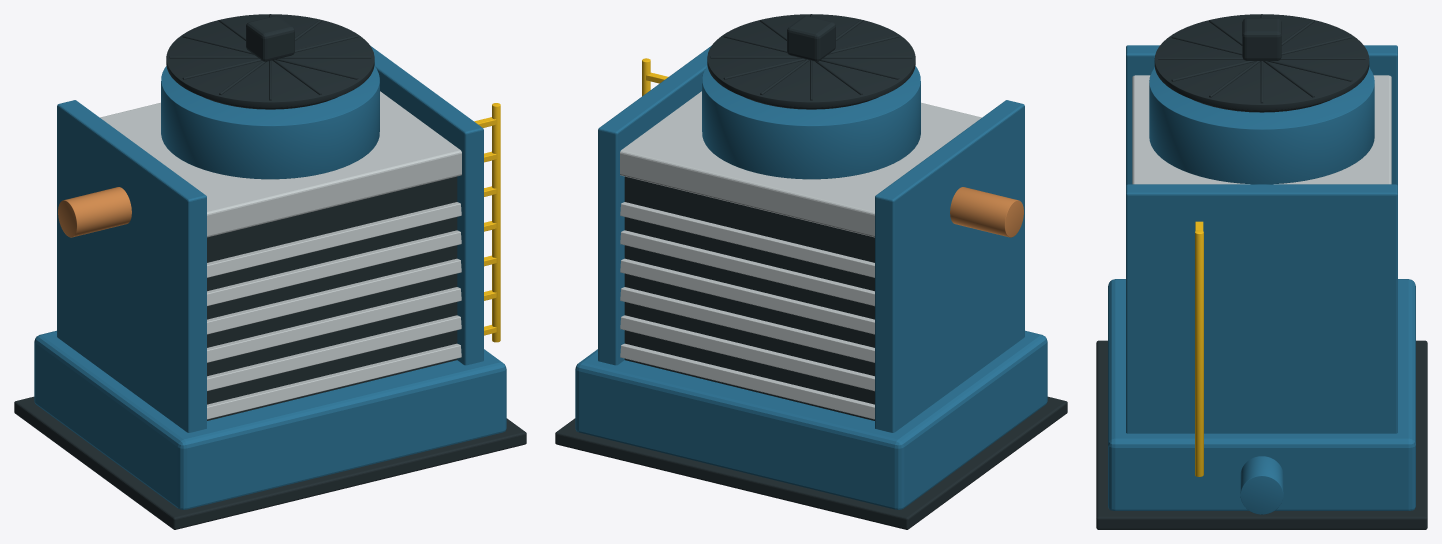
File: induced_draft_cooling_tower.glb
The picture shows the model from 3 angles, left to right: view 1: azimuth 30°, elevation 25°; view 2: azimuth 150°, elevation 25°; view 3: azimuth 270°, elevation 25°; orthographic projection. The views are drawn at different scales.
Parts seen in each view (by area): view 1: COLD_WATER_BASIN, CORNER_COLUMN_-0.92, FILL_MEDIA, DRIFT_ELIMINATOR, FAN_STACK, FAN_GUARD_OUTER, BASE, CORNER_COLUMN_0.92, AIR_INTAKE_LOUVER_-0.69_0.76, AIR_INTAKE_LOUVER_-0.69_1.3, AIR_INTAKE_LOUVER_-0.69_1.12, AIR_INTAKE_LOUVER_-0.69_0.58 (+5 smaller); view 2: COLD_WATER_BASIN, CORNER_COLUMN_-0.92, FILL_MEDIA, DRIFT_ELIMINATOR, FAN_STACK, FAN_GUARD_OUTER, BASE, CORNER_COLUMN_0.92, AIR_INTAKE_LOUVER_0.69_0.76, AIR_INTAKE_LOUVER_0.69_1.3, AIR_INTAKE_LOUVER_0.69_1.12, AIR_INTAKE_LOUVER_0.69_0.58 (+4 smaller); view 3: CORNER_COLUMN_0.92, COLD_WATER_BASIN, FAN_STACK, FAN_GUARD_OUTER, BASE, DRIFT_ELIMINATOR, CORNER_COLUMN_-0.92, ACCESS_LADDER_RIGHT, COLD_WATER_OUT, FAN_GEAR_MOTOR.
Boxes of the visible parts, left/top/right/bottom form: COLD_WATER_BASIN: left=34, top=330, right=506, bottom=509; CORNER_COLUMN_-0.92: left=57, top=100, right=206, bottom=432; FILL_MEDIA: left=207, top=176, right=457, bottom=420; DRIFT_ELIMINATOR: left=100, top=91, right=461, bottom=237; FAN_STACK: left=161, top=66, right=379, bottom=179; FAN_GUARD_OUTER: left=166, top=14, right=374, bottom=107; BASE: left=14, top=396, right=526, bottom=529; CORNER_COLUMN_0.92: left=370, top=45, right=483, bottom=365; AIR_INTAKE_LOUVER_-0.69_0.76: left=207, top=315, right=461, bottom=391; AIR_INTAKE_LOUVER_-0.69_1.3: left=207, top=230, right=461, bottom=306; AIR_INTAKE_LOUVER_-0.69_1.12: left=207, top=258, right=461, bottom=334; AIR_INTAKE_LOUVER_-0.69_0.58: left=207, top=343, right=461, bottom=419; COLD_WATER_BASIN: left=575, top=330, right=1047, bottom=509; CORNER_COLUMN_-0.92: left=875, top=100, right=1024, bottom=432; FILL_MEDIA: left=624, top=176, right=874, bottom=420; DRIFT_ELIMINATOR: left=620, top=91, right=981, bottom=237; FAN_STACK: left=702, top=66, right=920, bottom=179; FAN_GUARD_OUTER: left=707, top=14, right=915, bottom=107; BASE: left=555, top=396, right=1067, bottom=529; CORNER_COLUMN_0.92: left=598, top=45, right=711, bottom=365; AIR_INTAKE_LOUVER_0.69_0.76: left=620, top=315, right=874, bottom=391; AIR_INTAKE_LOUVER_0.69_1.3: left=620, top=230, right=874, bottom=306; AIR_INTAKE_LOUVER_0.69_1.12: left=620, top=258, right=874, bottom=334; AIR_INTAKE_LOUVER_0.69_0.58: left=620, top=343, right=874, bottom=419; CORNER_COLUMN_0.92: left=1126, top=184, right=1397, bottom=433; COLD_WATER_BASIN: left=1108, top=279, right=1415, bottom=510; FAN_STACK: left=1149, top=67, right=1374, bottom=184; FAN_GUARD_OUTER: left=1154, top=14, right=1369, bottom=110; BASE: left=1096, top=340, right=1427, bottom=529; DRIFT_ELIMINATOR: left=1132, top=75, right=1391, bottom=184; CORNER_COLUMN_-0.92: left=1126, top=45, right=1397, bottom=185; ACCESS_LADDER_RIGHT: left=1195, top=230, right=1203, bottom=476; COLD_WATER_OUT: left=1240, top=456, right=1283, bottom=514; FAN_GEAR_MOTOR: left=1242, top=18, right=1281, bottom=60.
Size of the model in its own units: 2.7 by 2.57 by 1.85.
